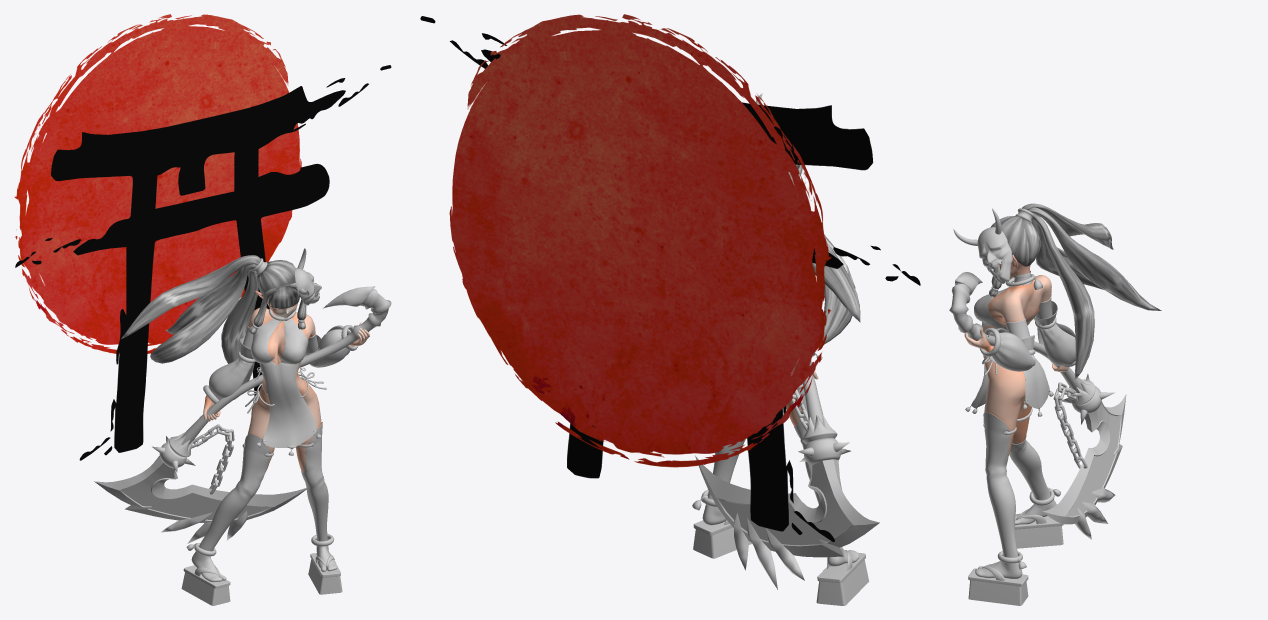
File: Oni_Girl_pose.gltf
3 renders of one model, left to right at view 1: azimuth 30°, elevation 25°; view 2: azimuth 150°, elevation 25°; view 3: azimuth 270°, elevation 25°, orthographic. The views are drawn at different scales.
Visible parts, largest first — view 1: node-0; view 2: node-0; view 3: node-0.
Boxes of the visible parts, bbox=[...] form: node-0: bbox=[14, 14, 391, 605]; node-0: bbox=[420, 14, 920, 605]; node-0: bbox=[949, 203, 1161, 605].
Bounding box in the file's own units: 217 × 273 × 139.
